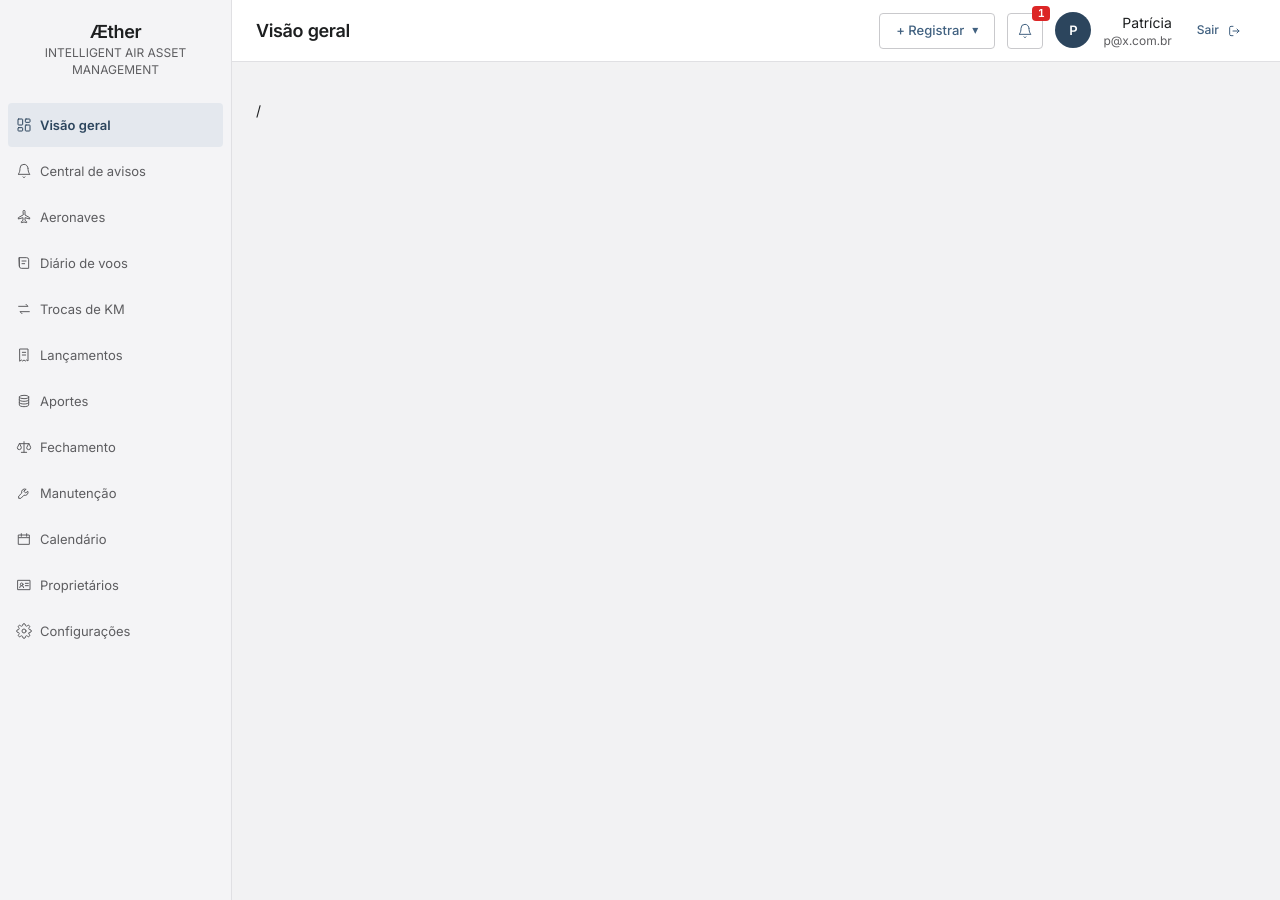
Test case: LayoutDaAplicacao › o sino conta os não lidos e leva ao aviso e à Central
The width and height of the screenshot is (1280, 900).
Click the button named "Notificações: 1 não lidos" at (1025, 30), box [1007, 12, 1043, 48]
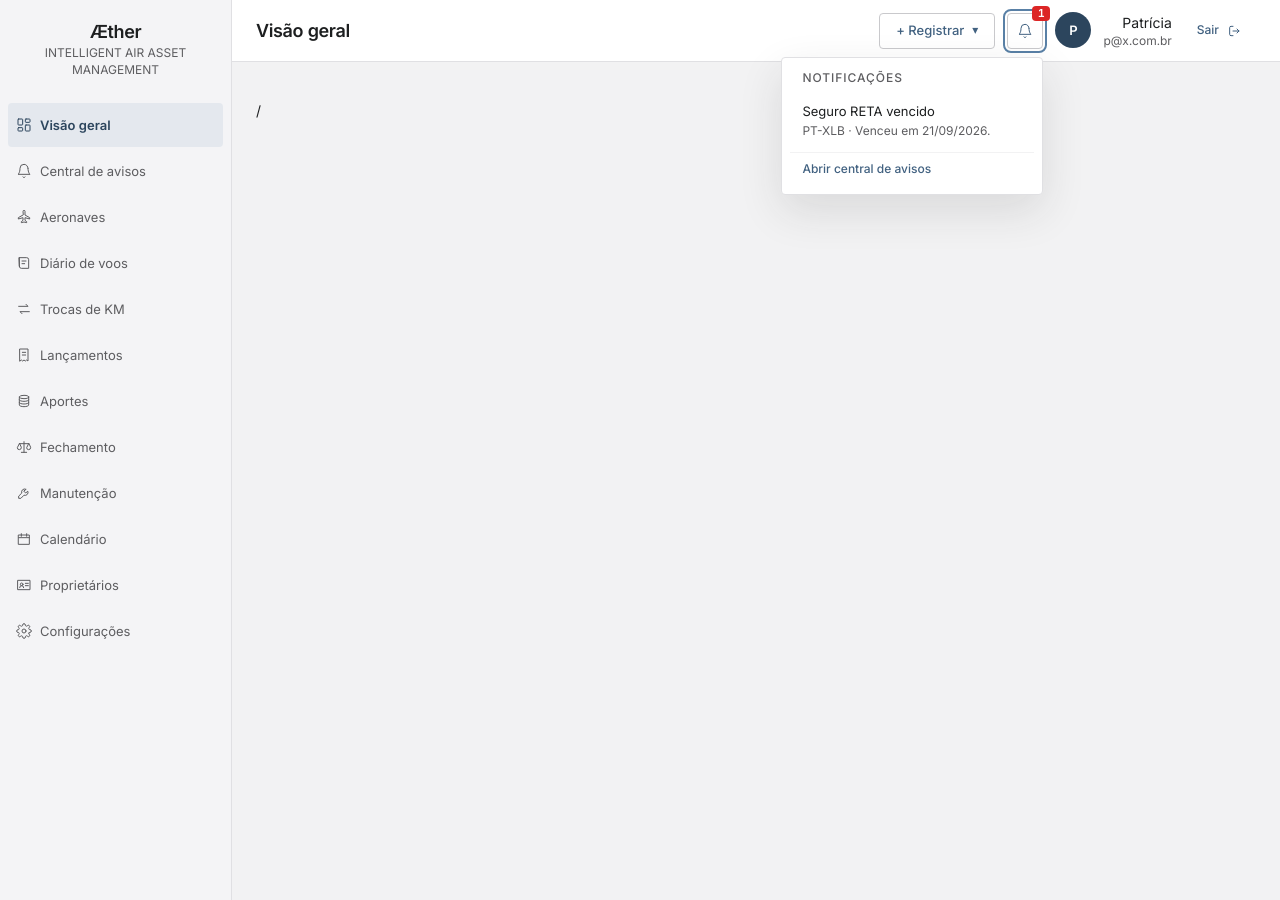
Click the button "Seguro RETA vencido PT-XLB · Venceu em 21/09/2026." at (912, 121), box [790, 94, 1034, 148]
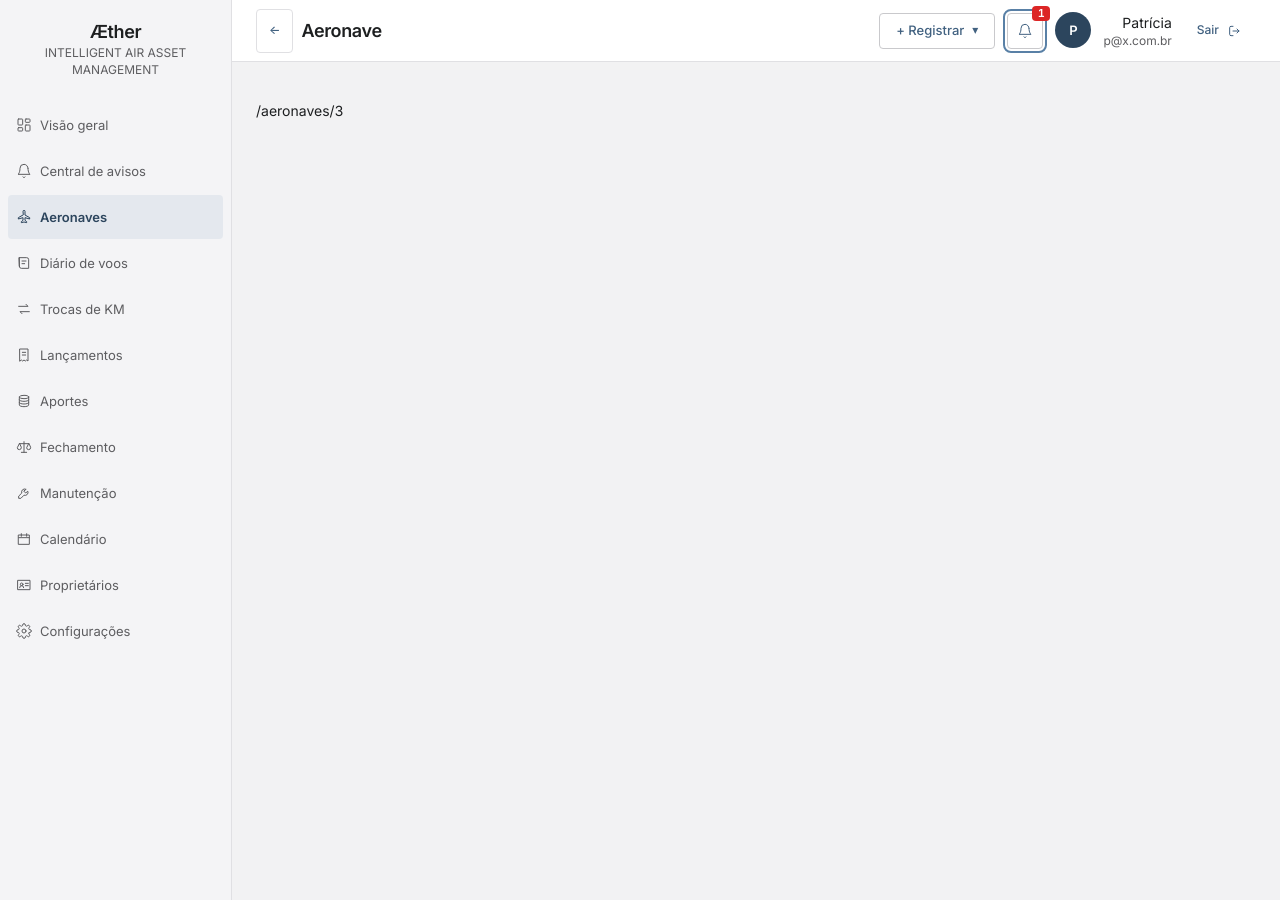
expect the text with test id "endereco" reads "/aeronaves/3": met, box [256, 102, 344, 119]
Click the button named "Notificações: 1 não lidos" at (1025, 30), box [1007, 12, 1043, 48]
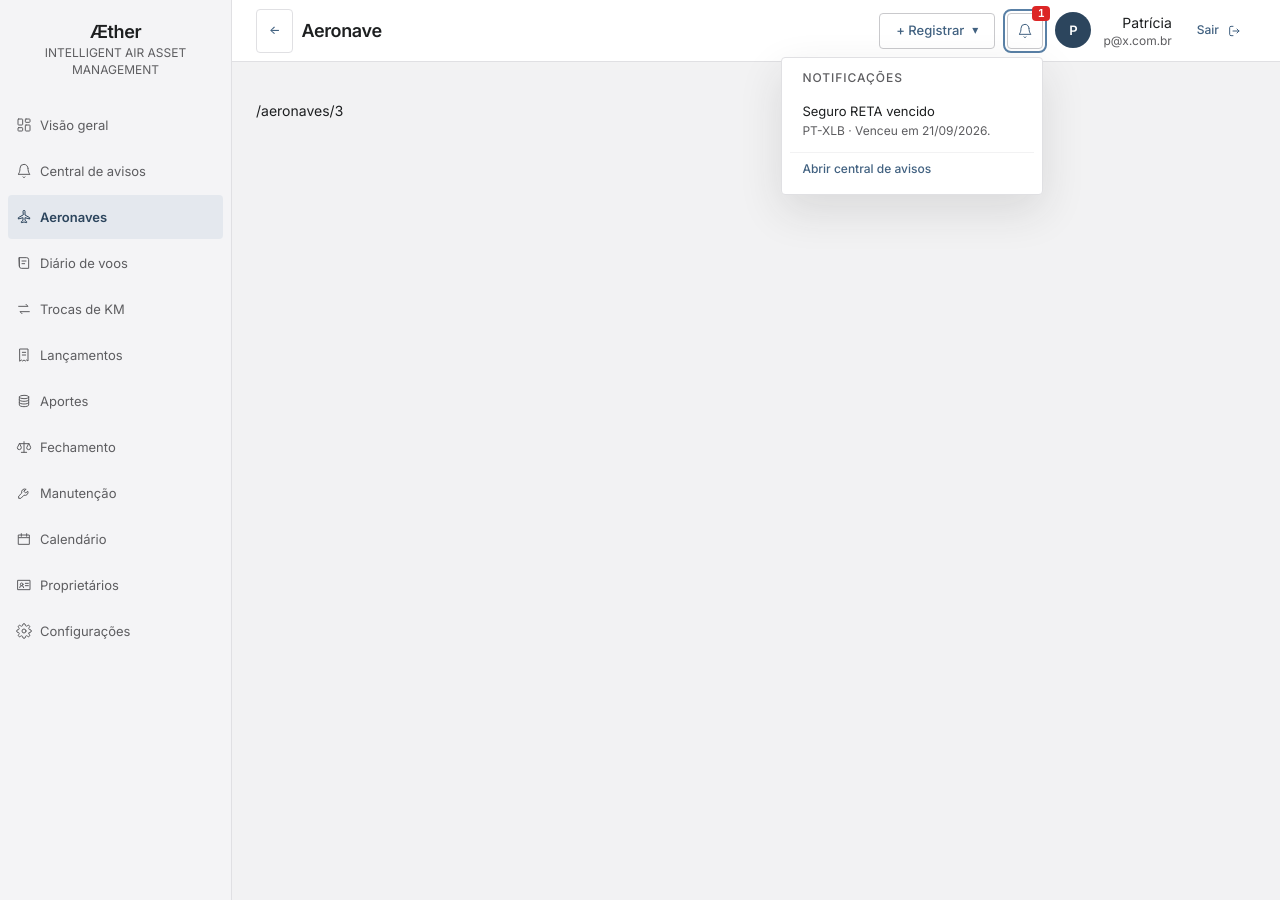
Click the button "Abrir central de avisos" at (912, 169), box [790, 152, 1034, 186]
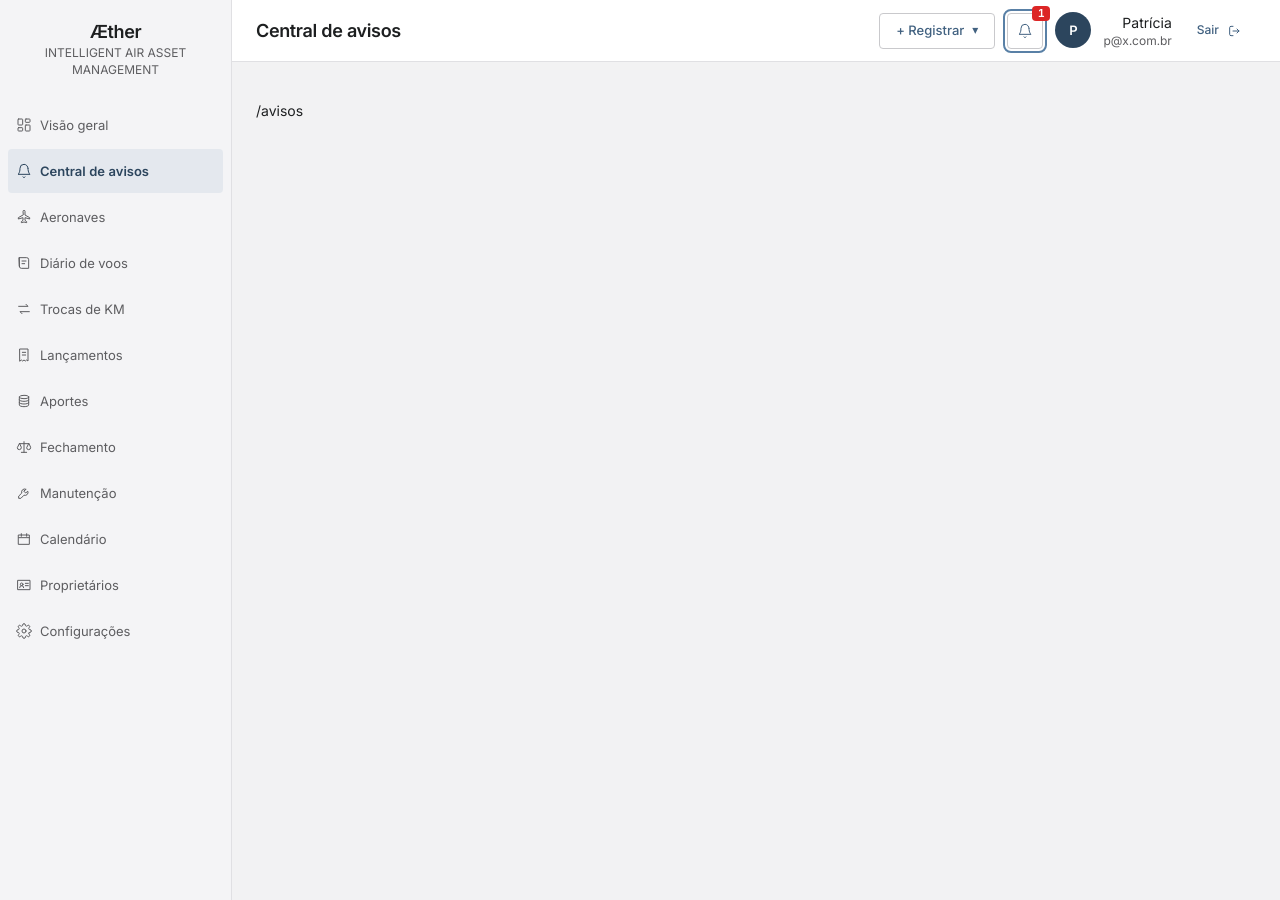
expect the text with test id "endereco" reads "/avisos": met, box [256, 102, 303, 119]
